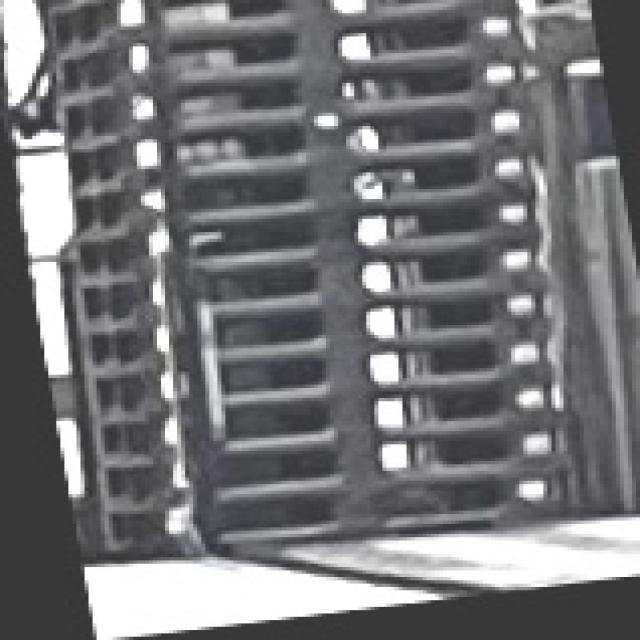igps: (148, 470, 590, 566), (140, 286, 560, 360), (125, 109, 539, 178), (110, 12, 534, 79), (109, 61, 540, 126), (140, 239, 558, 305), (128, 148, 540, 206), (148, 426, 584, 480), (147, 385, 589, 437), (132, 199, 549, 250), (145, 337, 566, 387), (106, 0, 552, 38)
